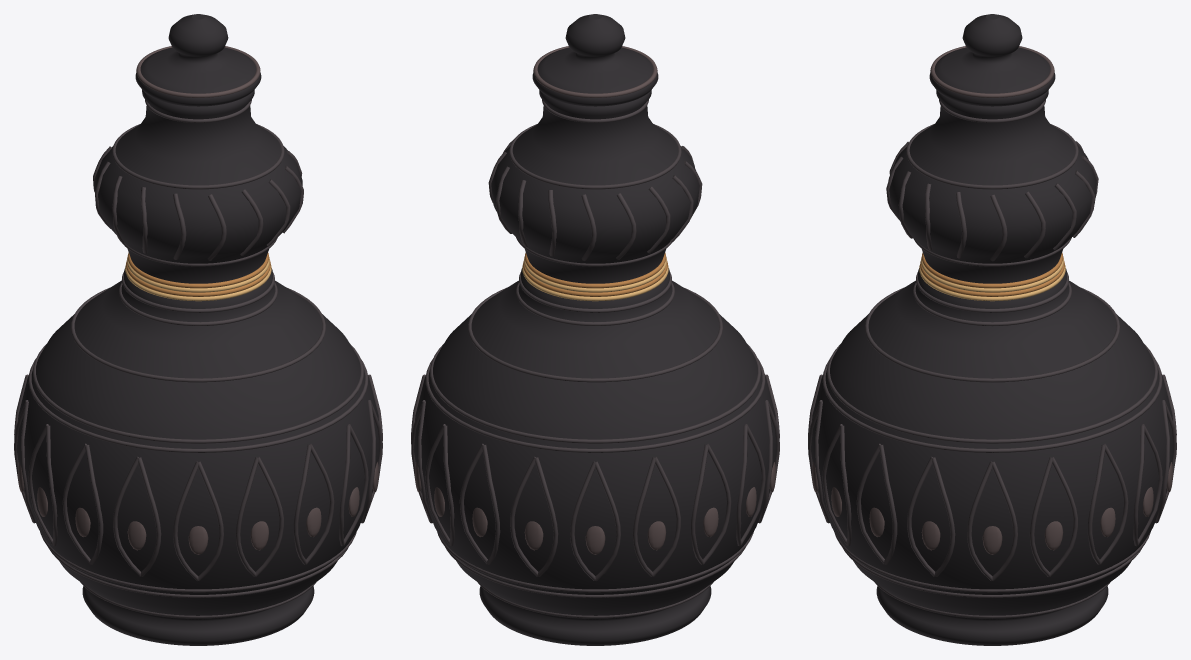
3 views of the same model, side by side, from view 1: azimuth 30°, elevation 25°; view 2: azimuth 150°, elevation 25°; view 3: azimuth 270°, elevation 25° (orthographic).
Visible parts, largest first — view 1: Smoke fired vessel, Potters marks, Fitted cover; view 2: Smoke fired vessel, Potters marks, Fitted cover; view 3: Smoke fired vessel, Potters marks, Fitted cover.
Part boxes in pixels (x1,y1,x2,y2): Smoke fired vessel: (16, 90, 379, 645); Potters marks: (14, 99, 382, 618); Fitted cover: (135, 14, 261, 106); Smoke fired vessel: (413, 90, 777, 645); Potters marks: (411, 99, 779, 618); Fitted cover: (532, 14, 658, 106); Smoke fired vessel: (810, 90, 1174, 645); Potters marks: (808, 99, 1176, 618); Fitted cover: (929, 14, 1055, 106).
Bounding box in the file's own units: 0.2218 × 0.389 × 0.2228.
